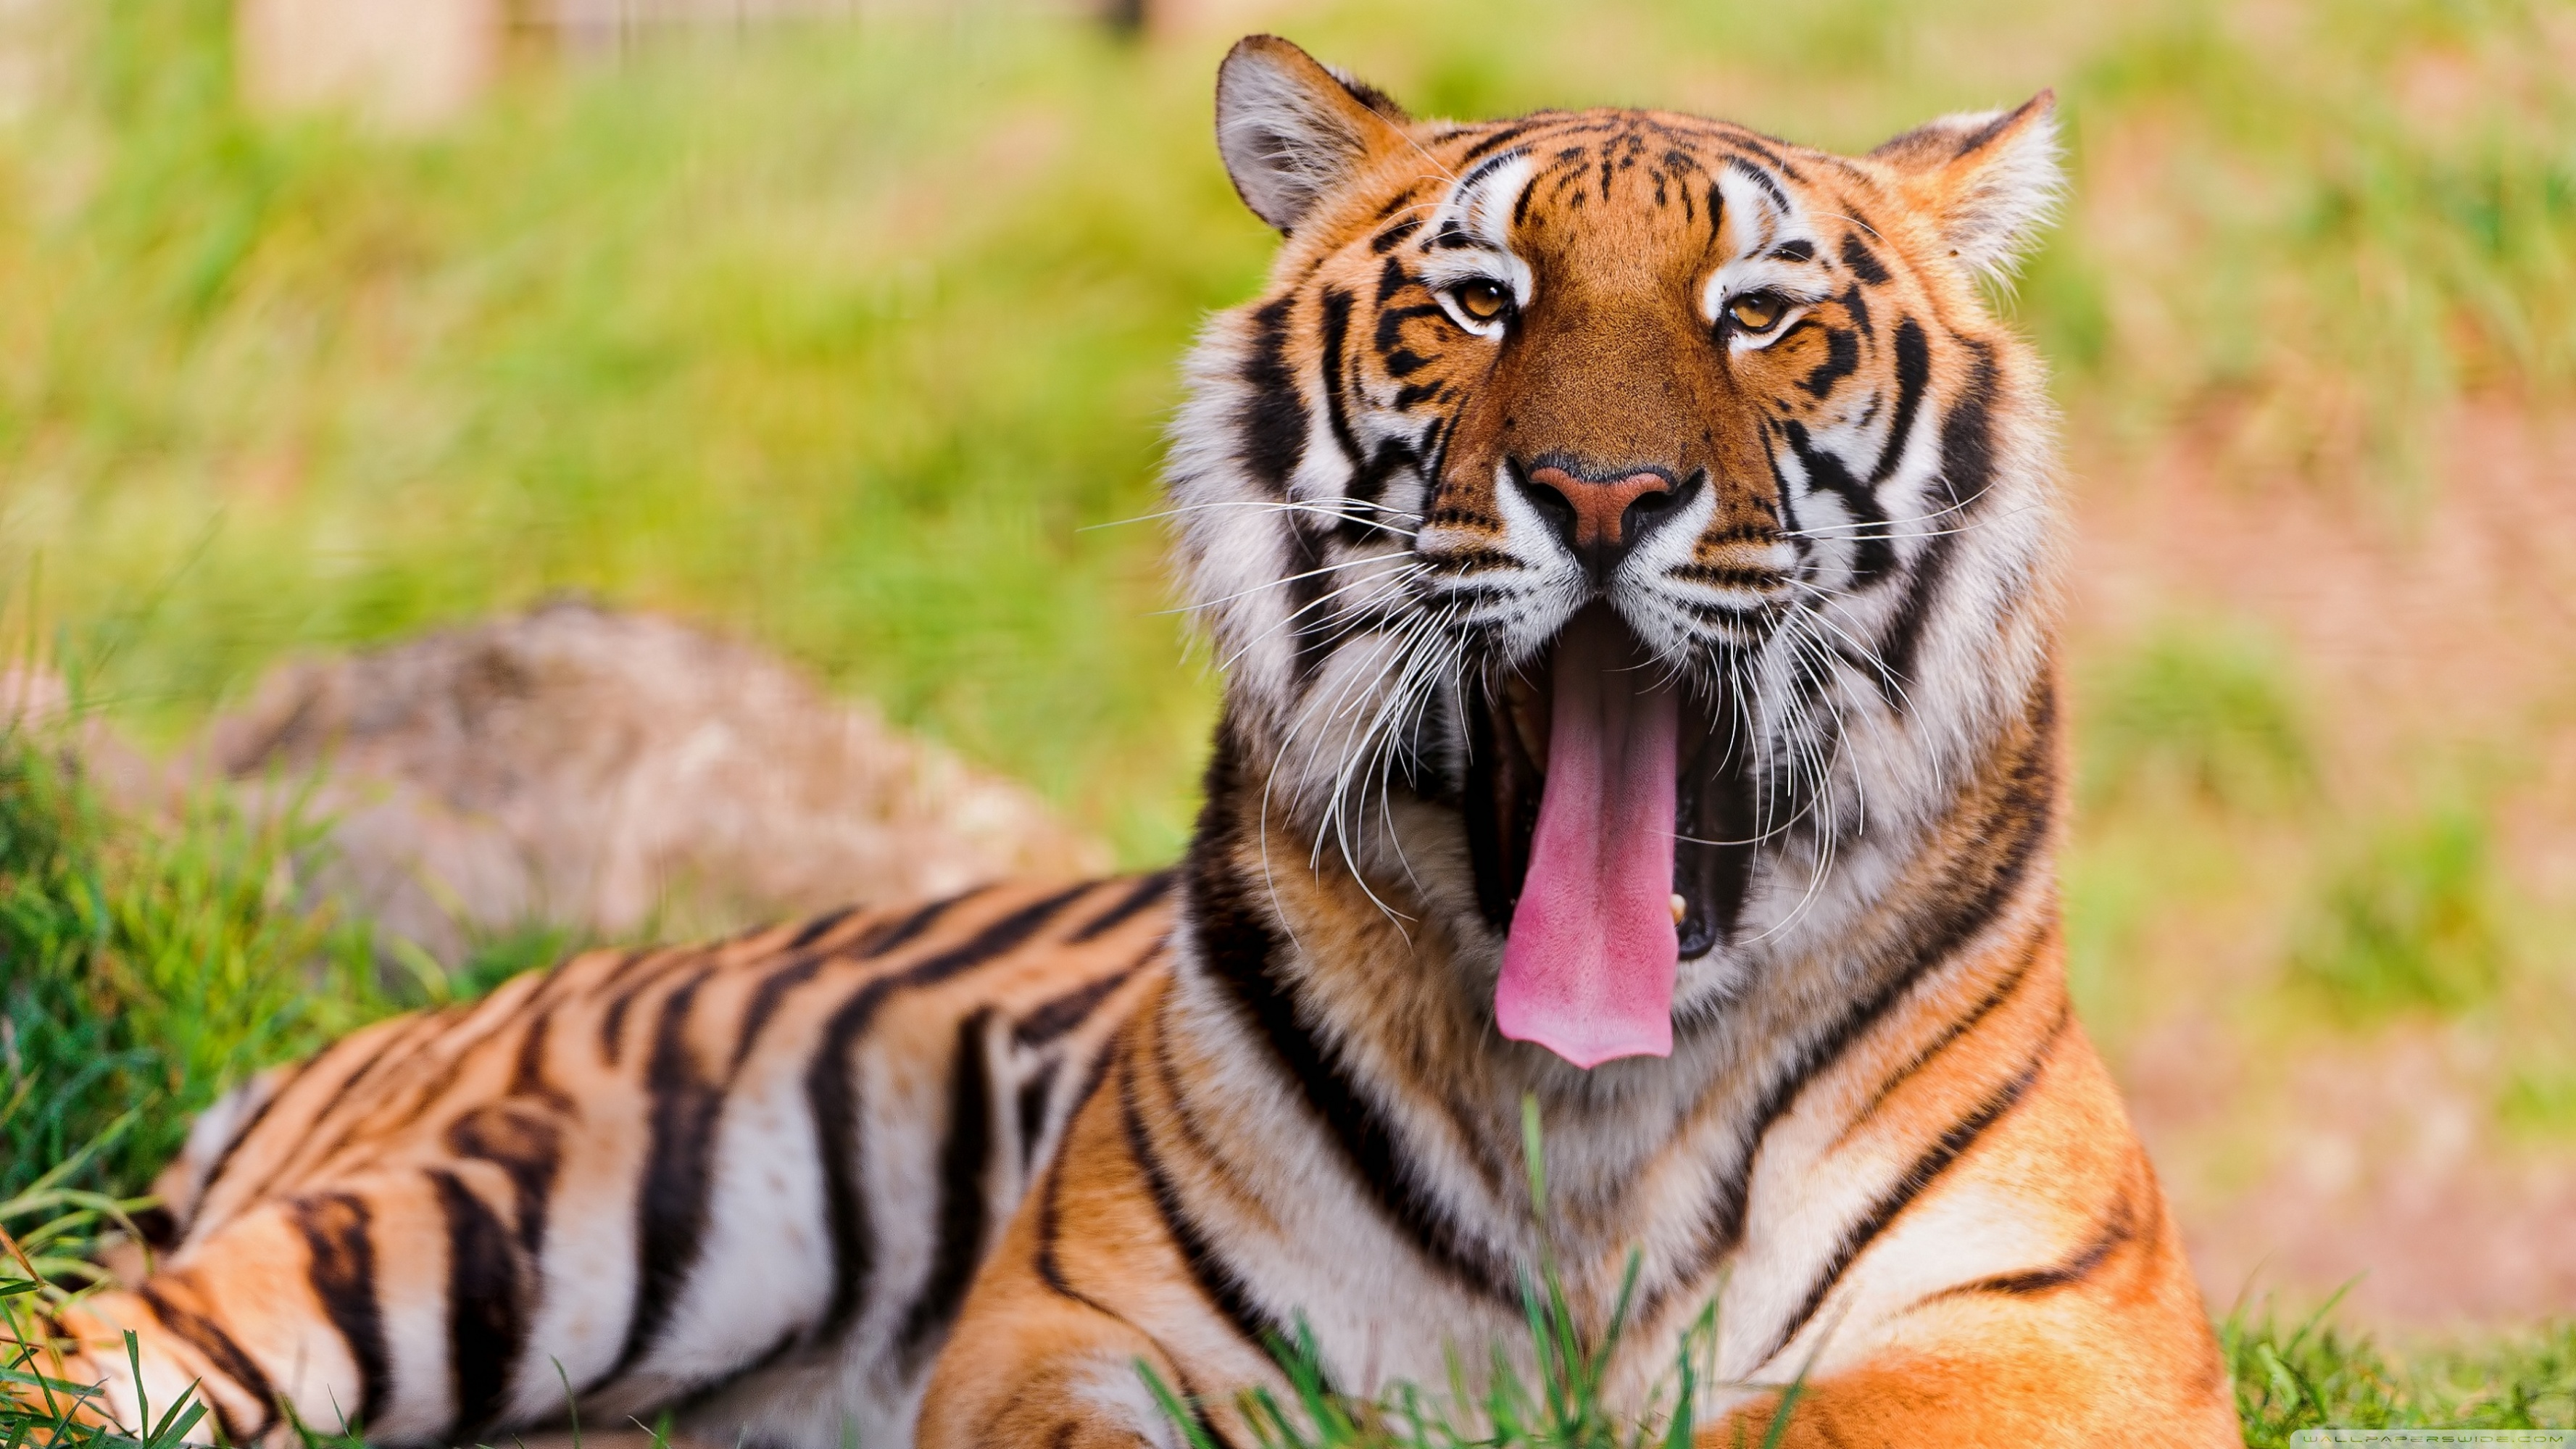tiger: (73, 39, 2431, 1414)
